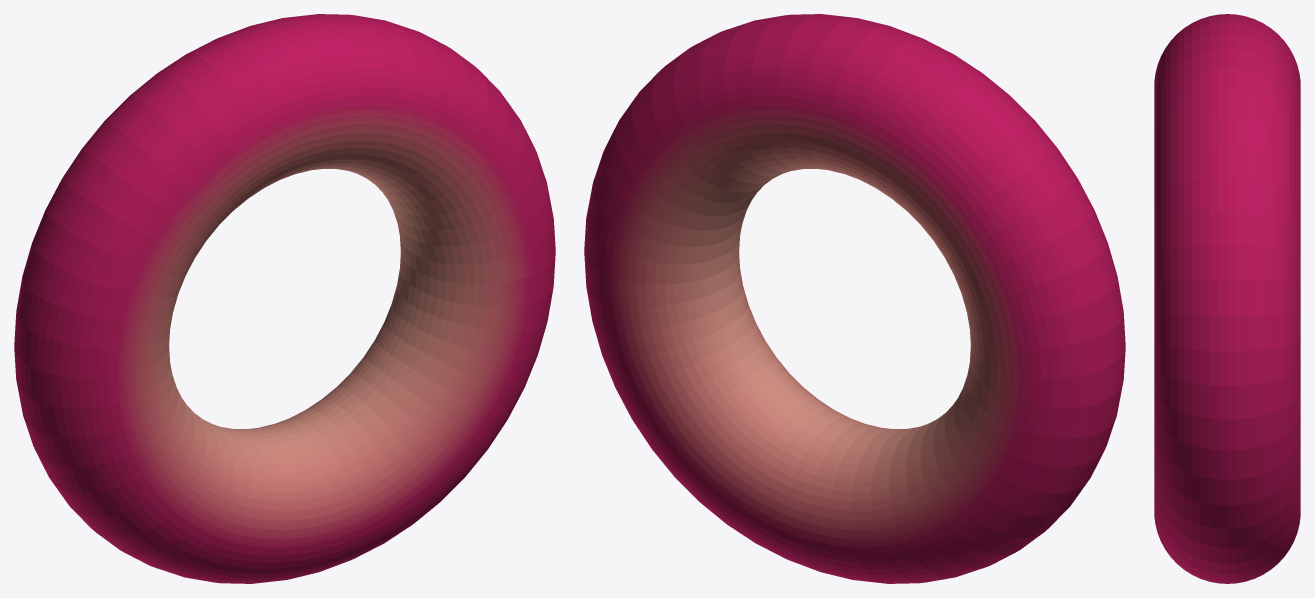
3 renders of one model, left to right at view 1: azimuth 30°, elevation 25°; view 2: azimuth 150°, elevation 25°; view 3: azimuth 270°, elevation 25°, orthographic. The views are drawn at different scales.
Parts seen in each view (by area): view 1: world; view 2: world; view 3: world.
Part boxes in pixels (left/top/right/bottom): world: left=14, top=14, right=555, bottom=583; world: left=584, top=14, right=1125, bottom=583; world: left=1154, top=14, right=1300, bottom=583.
Size of the model in its own units: 30.53 by 30.47 by 7.85.
